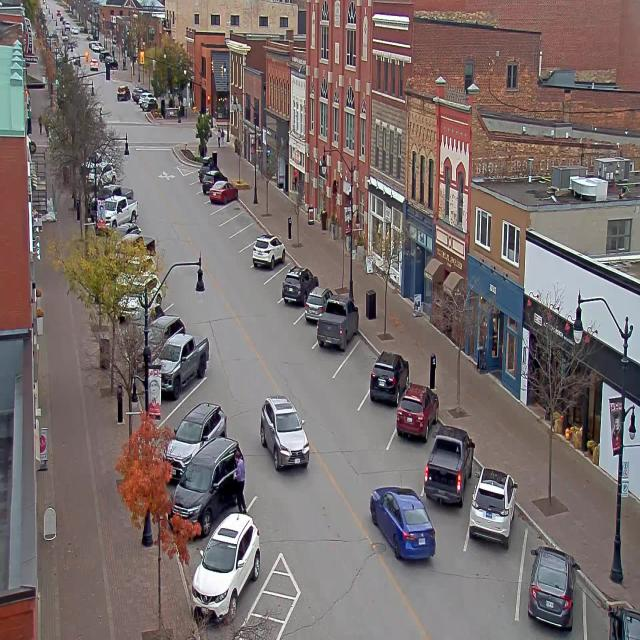available: (170, 359, 226, 422), (342, 331, 378, 390), (263, 263, 288, 301), (242, 217, 264, 246), (232, 208, 251, 233), (223, 196, 240, 219), (183, 166, 198, 186)
occupied: (170, 435, 246, 538), (198, 505, 264, 614), (164, 394, 229, 470), (527, 544, 579, 631), (422, 423, 474, 507), (468, 466, 517, 548), (153, 331, 210, 398), (393, 382, 433, 449), (316, 296, 358, 352), (593, 590, 640, 640), (368, 350, 409, 406), (282, 264, 318, 305), (252, 232, 285, 269), (302, 289, 326, 325), (209, 179, 238, 204), (198, 156, 216, 182), (201, 170, 218, 194)
